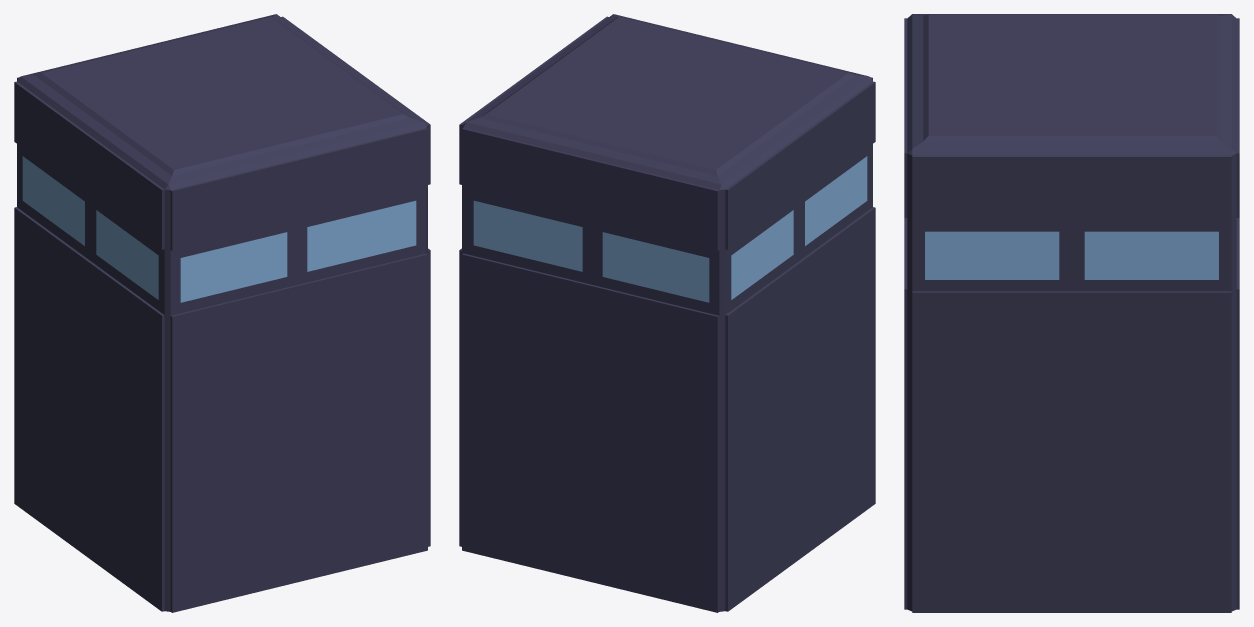
Rendered from Tile-Space-5.fbx.
3 renders of one model, left to right at view 1: azimuth 30°, elevation 25°; view 2: azimuth 150°, elevation 25°; view 3: azimuth 270°, elevation 25°, orthographic. The views are drawn at different scales.
Visible parts, largest first — view 1: Tile05; view 2: Tile05; view 3: Tile05.
Part boxes in pixels (left/top/right/bottom): Tile05: left=14, top=14, right=430, bottom=612; Tile05: left=459, top=14, right=875, bottom=612; Tile05: left=904, top=14, right=1239, bottom=612.
Size of the model in its own units: 191 by 294 by 191.
